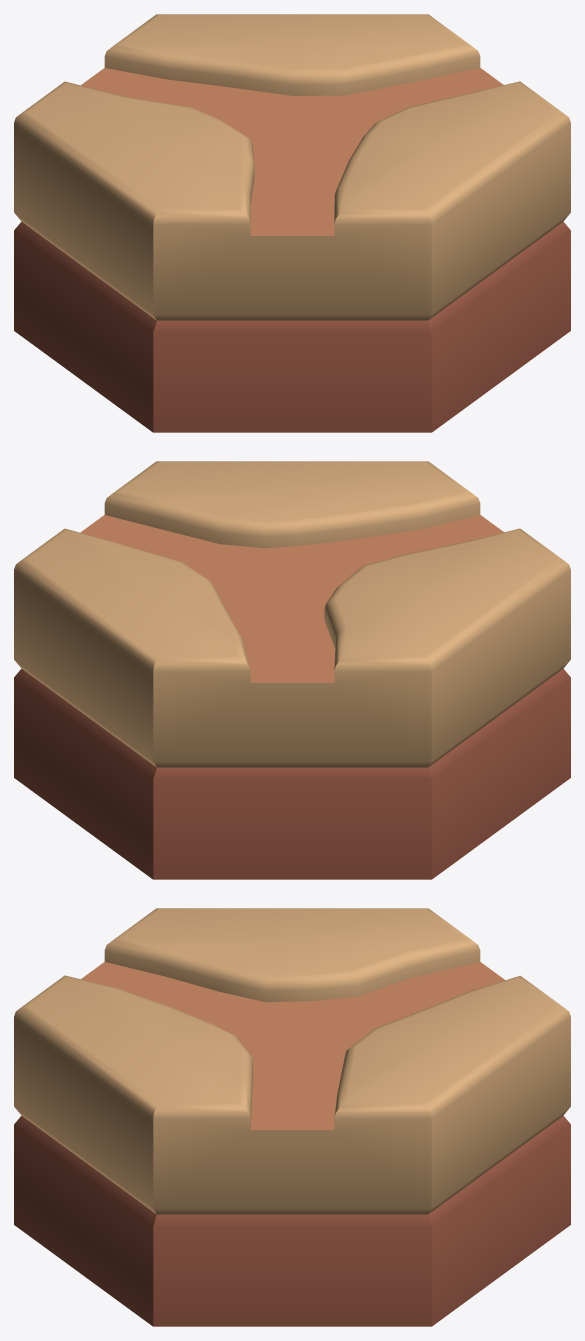
The model's file is hex_sand_roadG_detail.glb.
3 views of the same model, one above another, from view 1: azimuth 30°, elevation 25°; view 2: azimuth 150°, elevation 25°; view 3: azimuth 270°, elevation 25° (orthographic).
Parts seen in each view (by area): view 1: hex_sand_roadG_detail; view 2: hex_sand_roadG_detail; view 3: hex_sand_roadG_detail.
Part boxes in pixels (<box>): hex_sand_roadG_detail: <box>14,14,570,432</box>; hex_sand_roadG_detail: <box>14,461,570,879</box>; hex_sand_roadG_detail: <box>14,908,570,1326</box>.
Size of the model in its own units: 2 by 1 by 2.31.
